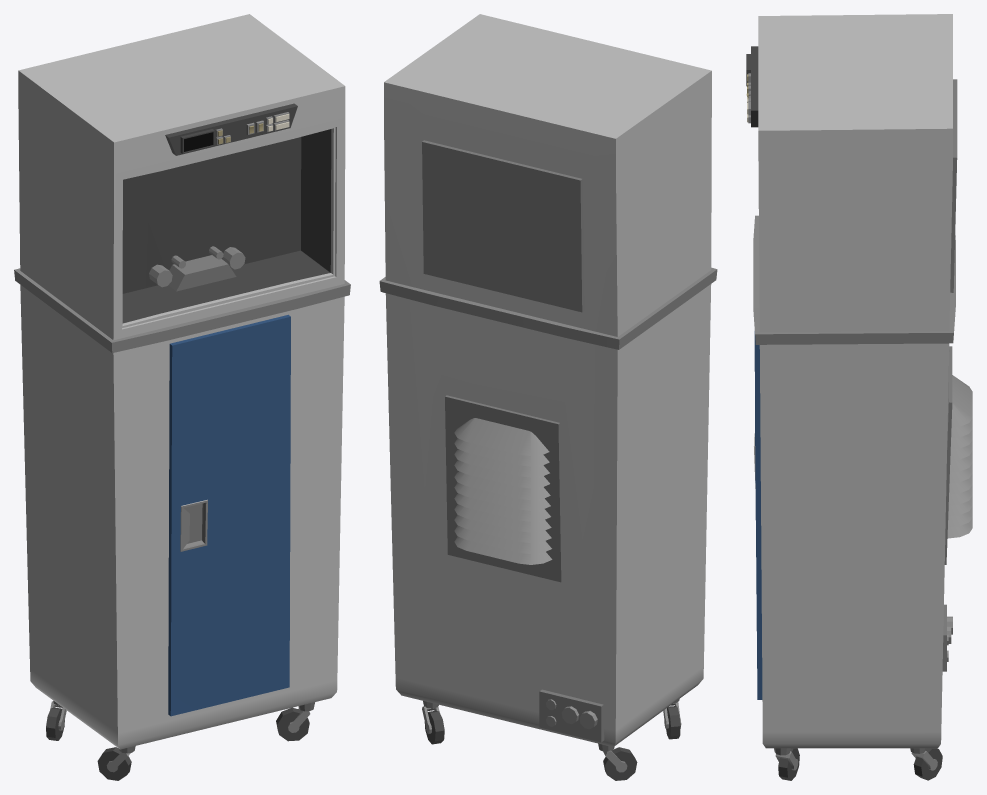
Rendered from server1.fbx.
3 renders of one model, left to right at view 1: azimuth 30°, elevation 25°; view 2: azimuth 150°, elevation 25°; view 3: azimuth 270°, elevation 25°, orthographic.
Parts seen in each view (by area): view 1: Cube.000; view 2: Cube.000; view 3: Cube.000.
Part boxes in pixels (box(x1,y1,x2,y2)): Cube.000: box(14, 14, 350, 780); Cube.000: box(379, 14, 717, 780); Cube.000: box(746, 14, 972, 780).
Size of the model in its own units: 83.64 by 219 by 67.4.
